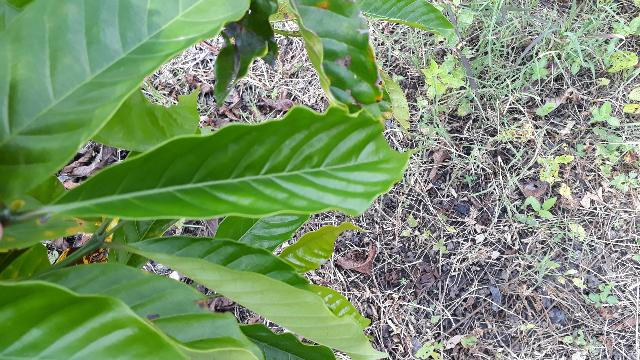healthy: (53, 103, 416, 221)
